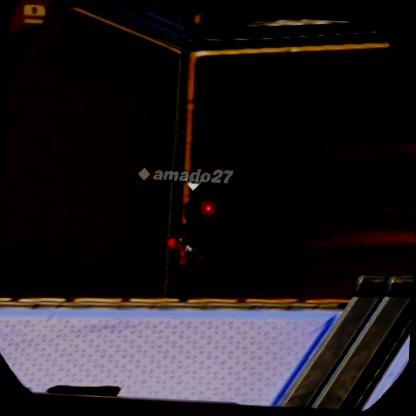person: (160, 206, 216, 300)
